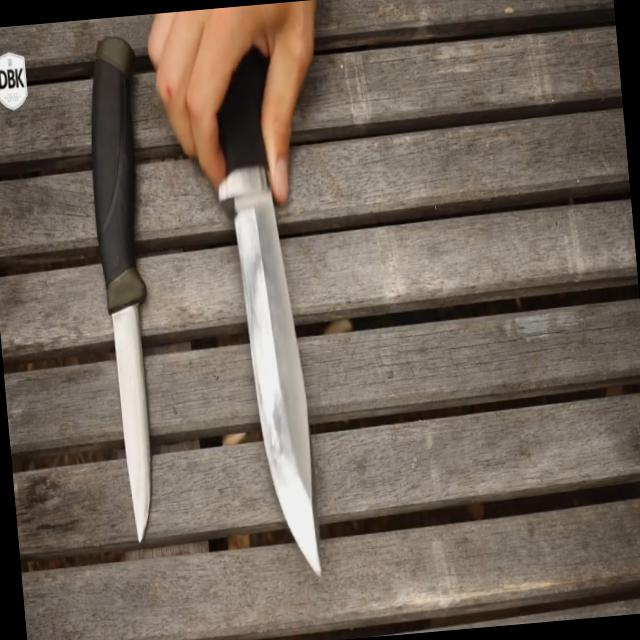knife: (182, 94, 346, 600), (80, 225, 174, 565)
